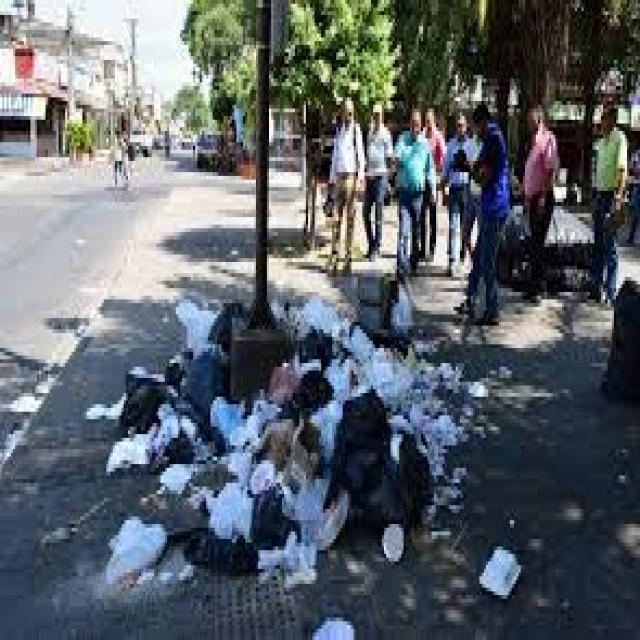garbage: (80, 276, 523, 588)
